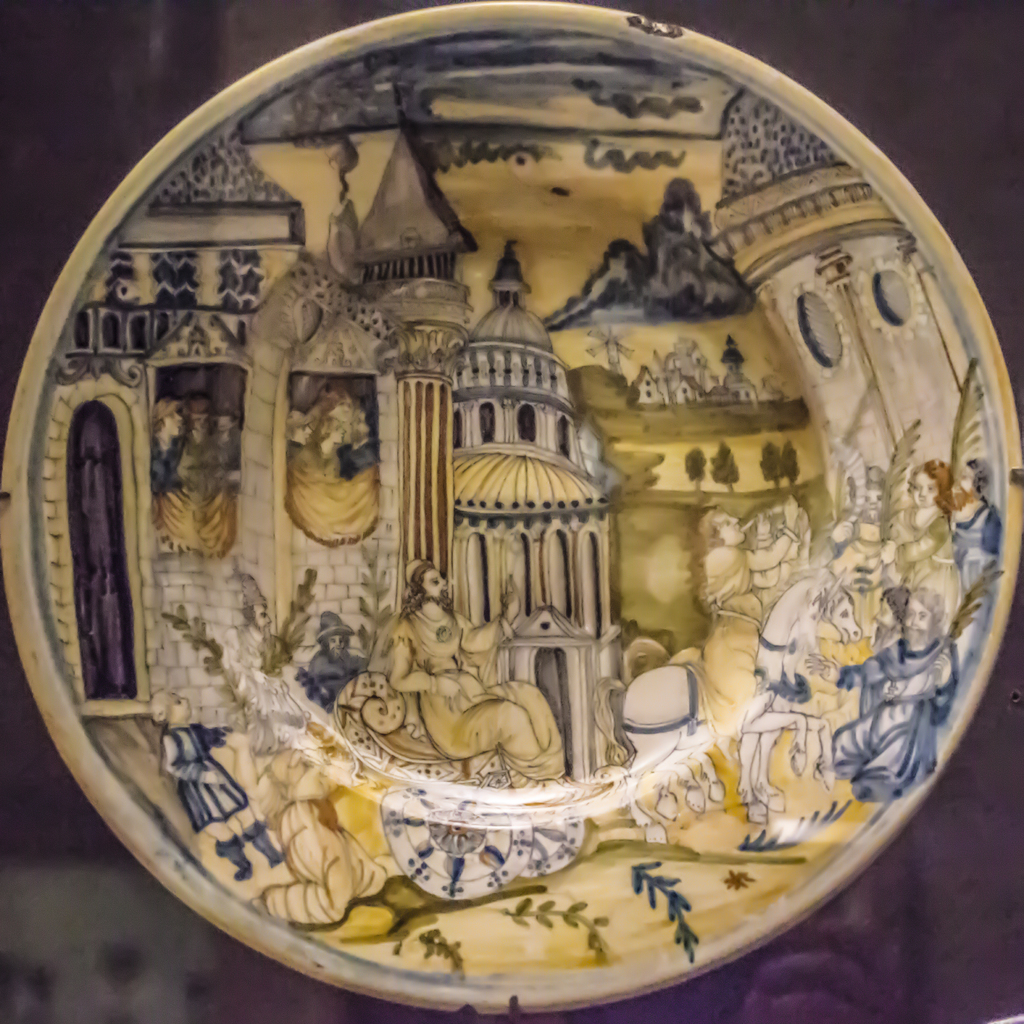plate: (12, 67, 1023, 981)
